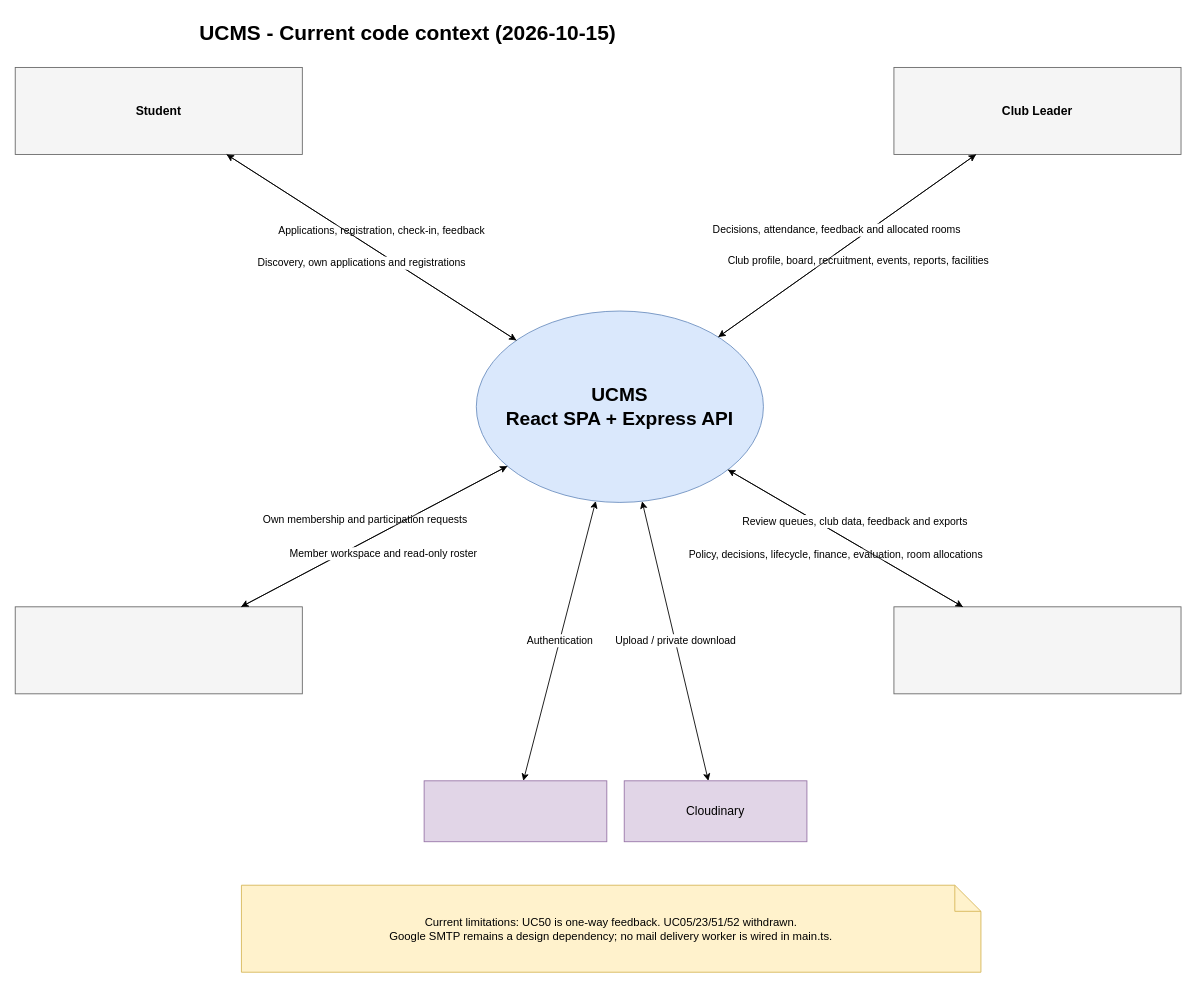
Some shapes in this 1196 by 987 pixel diagram are drawn without their labels. The centre of each missing label's shape, as x and y in pixels:
Club Member: pixel 158 650
Google OAuth: pixel 515 811
ICPDP Officer: pixel 1037 650
